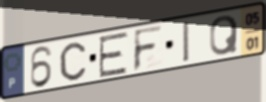6: (29, 44, 54, 90)
C: (58, 41, 88, 83)
E: (97, 30, 130, 80)
F: (131, 23, 165, 74)
I: (181, 19, 192, 65)
Q: (208, 14, 240, 58)
